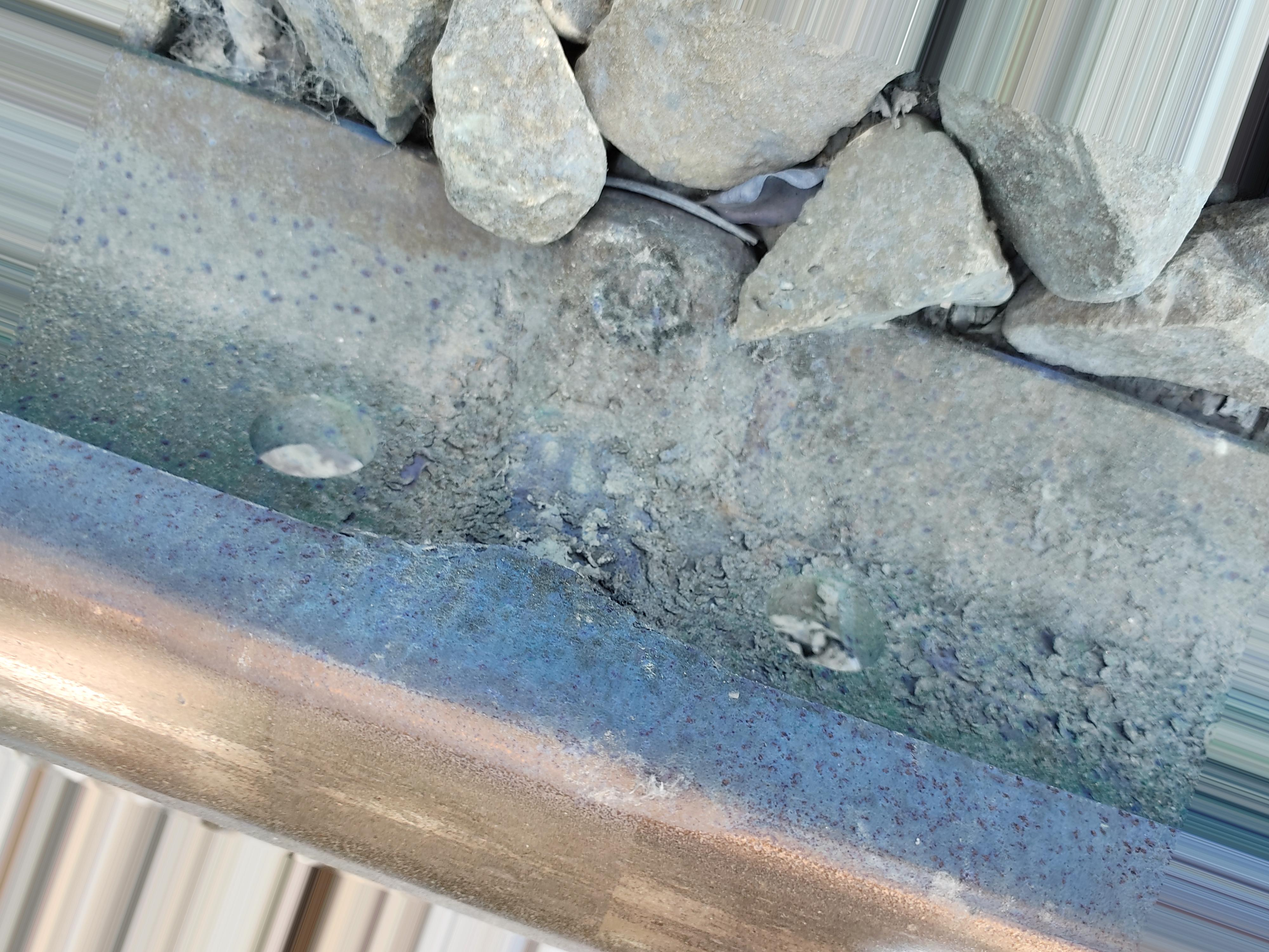tracks_fault: (382, 116, 1206, 828)
